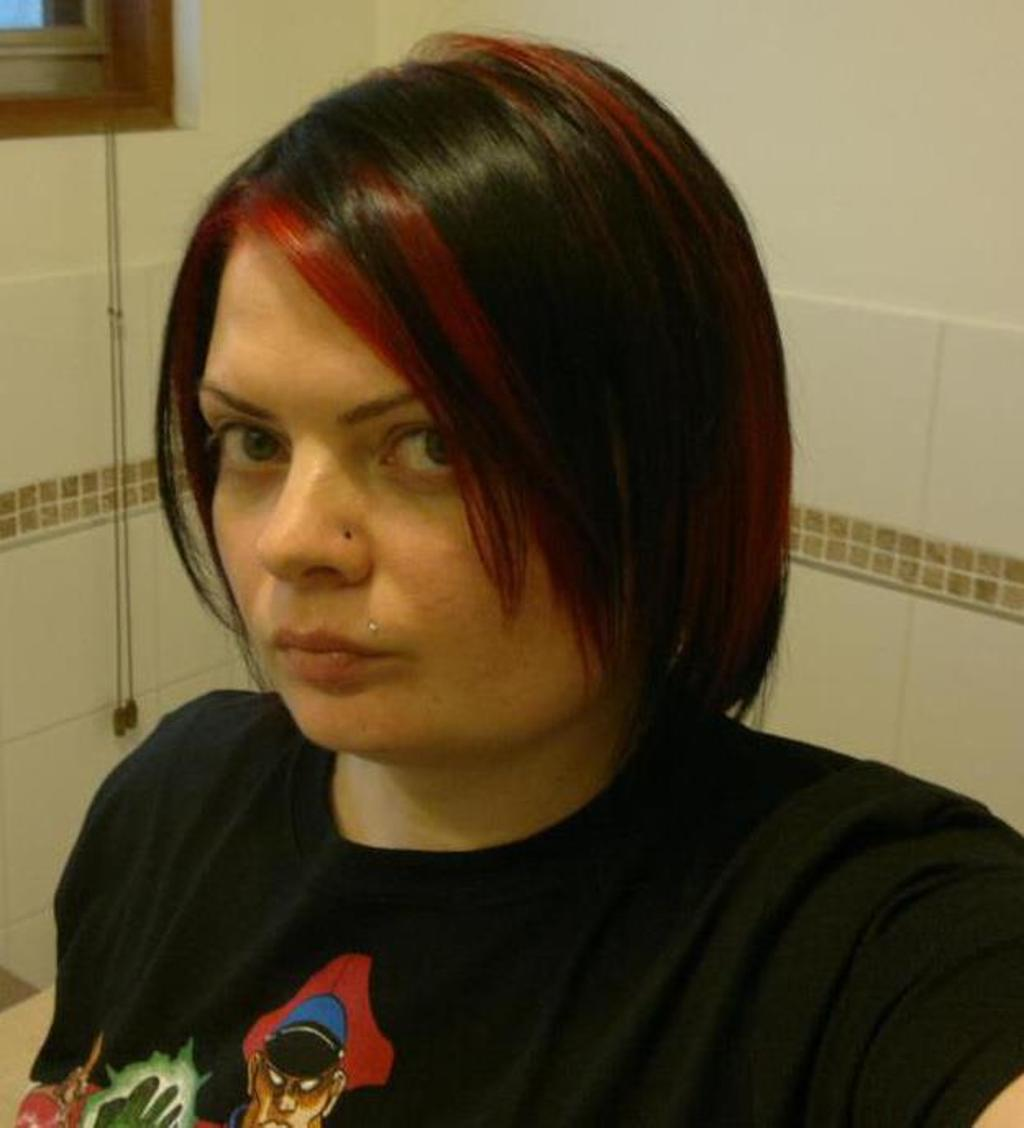face: (210, 221, 558, 763)
